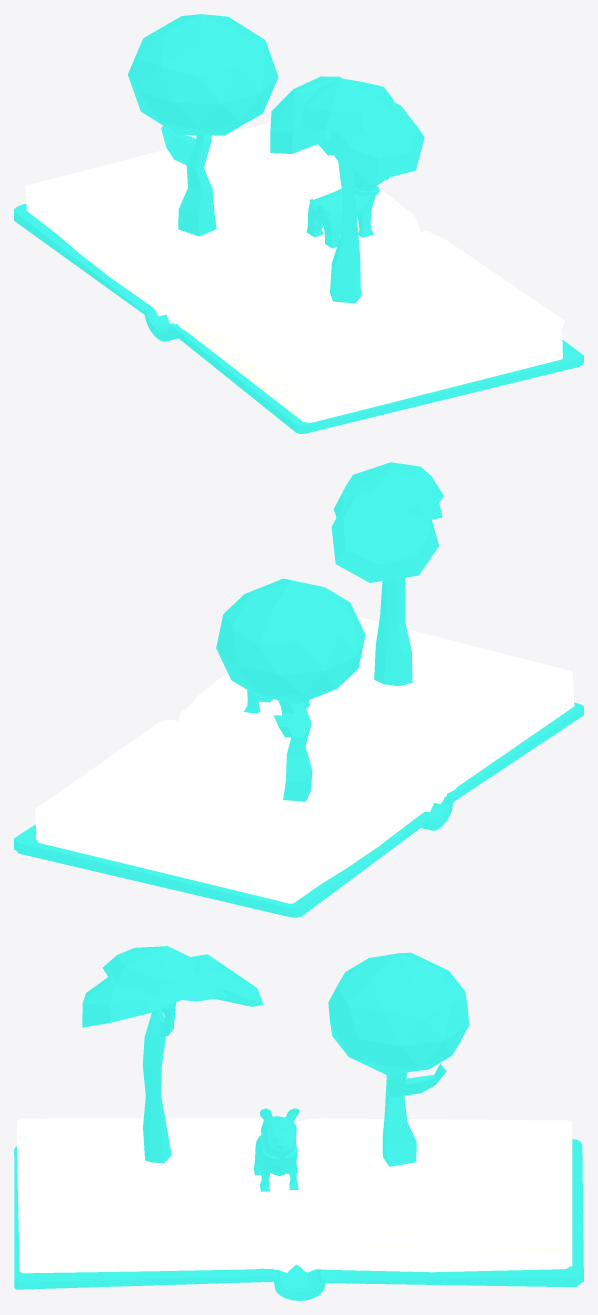
File: Digital storytelling.glb
3 views of the same model, one above another, from view 1: azimuth 30°, elevation 25°; view 2: azimuth 150°, elevation 25°; view 3: azimuth 270°, elevation 25° (orthographic).
Parts seen in each view (by area): view 1: Cube.002, Icosphere.001, Cube.027_Cube.003, dog_Cube.004; view 2: Cube.002, Icosphere.001, Cube.027_Cube.003; view 3: Cube.002, Icosphere.001, Cube.027_Cube.003, dog_Cube.004.
Part boxes in pixels (x1,y1,x2,y2): Cube.002: (14,122,583,433); Icosphere.001: (127,14,278,236); Cube.027_Cube.003: (270,76,424,303); dog_Cube.004: (306,169,389,248); Cube.002: (14,616,583,917); Icosphere.001: (216,578,365,801); Cube.027_Cube.003: (331,462,443,686); Cube.002: (14,1118,583,1300); Icosphere.001: (328,952,469,1166); Cube.027_Cube.003: (82,946,263,1163); dog_Cube.004: (253,1108,299,1191).
Size of the model in its own units: 2.89 by 2.73 by 5.06.
